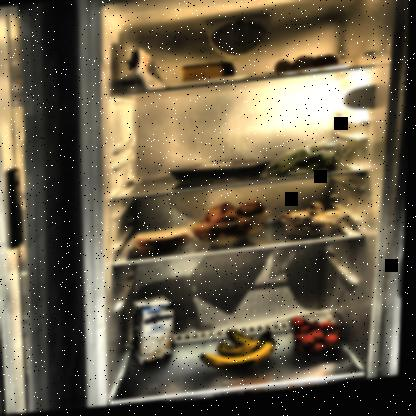banana: (194, 325, 286, 380)
cheese: (179, 63, 240, 89)
eggs: (273, 56, 343, 81)
green_beans: (263, 142, 356, 185)
milk: (130, 296, 181, 371)
mushrooms: (283, 204, 351, 243)
onion: (193, 200, 272, 249)
strawberries: (293, 316, 349, 361)
